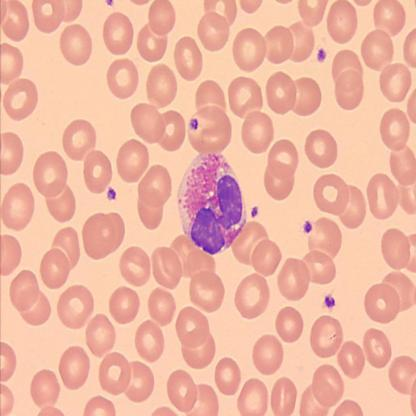Eosinophil: (178, 153, 245, 254)
